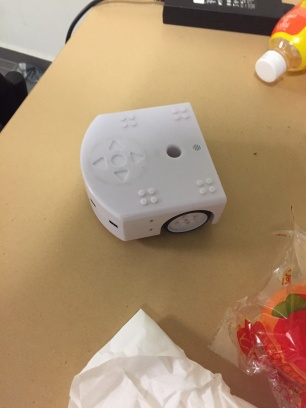thymio: (72, 96, 234, 258)
